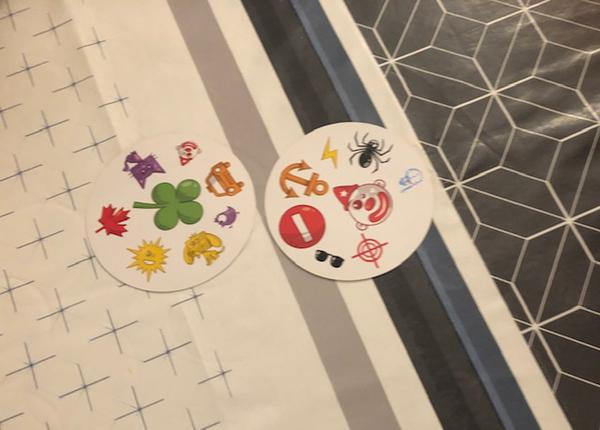ancre: (273, 159, 333, 200)
araignee: (338, 130, 394, 172)
bonhomme_neige: (396, 165, 427, 193)
chat: (119, 148, 168, 190)
chien: (181, 226, 230, 269)
cible: (352, 232, 390, 269)
clown: (331, 178, 396, 232), (173, 137, 203, 167)
eclair: (319, 135, 341, 172)
feuille: (94, 199, 136, 240)
lunette: (312, 248, 348, 272)
oiseau: (215, 199, 242, 229)
sens_interdit: (275, 204, 325, 250)
soleil: (126, 232, 174, 282)
trefle: (137, 173, 204, 231)
voiture: (204, 158, 249, 198)
